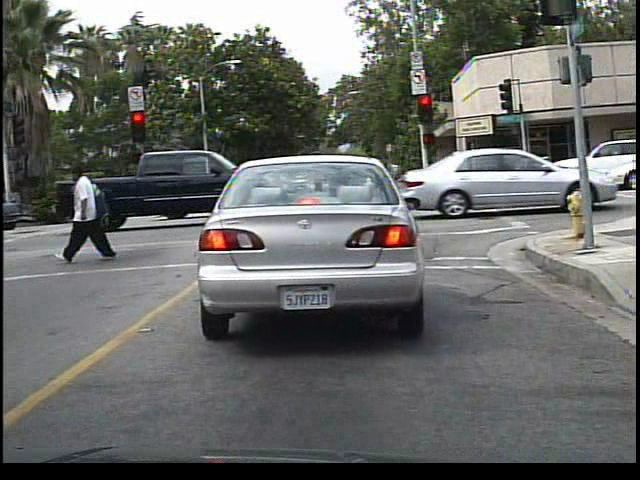person: (65, 158, 117, 261)
